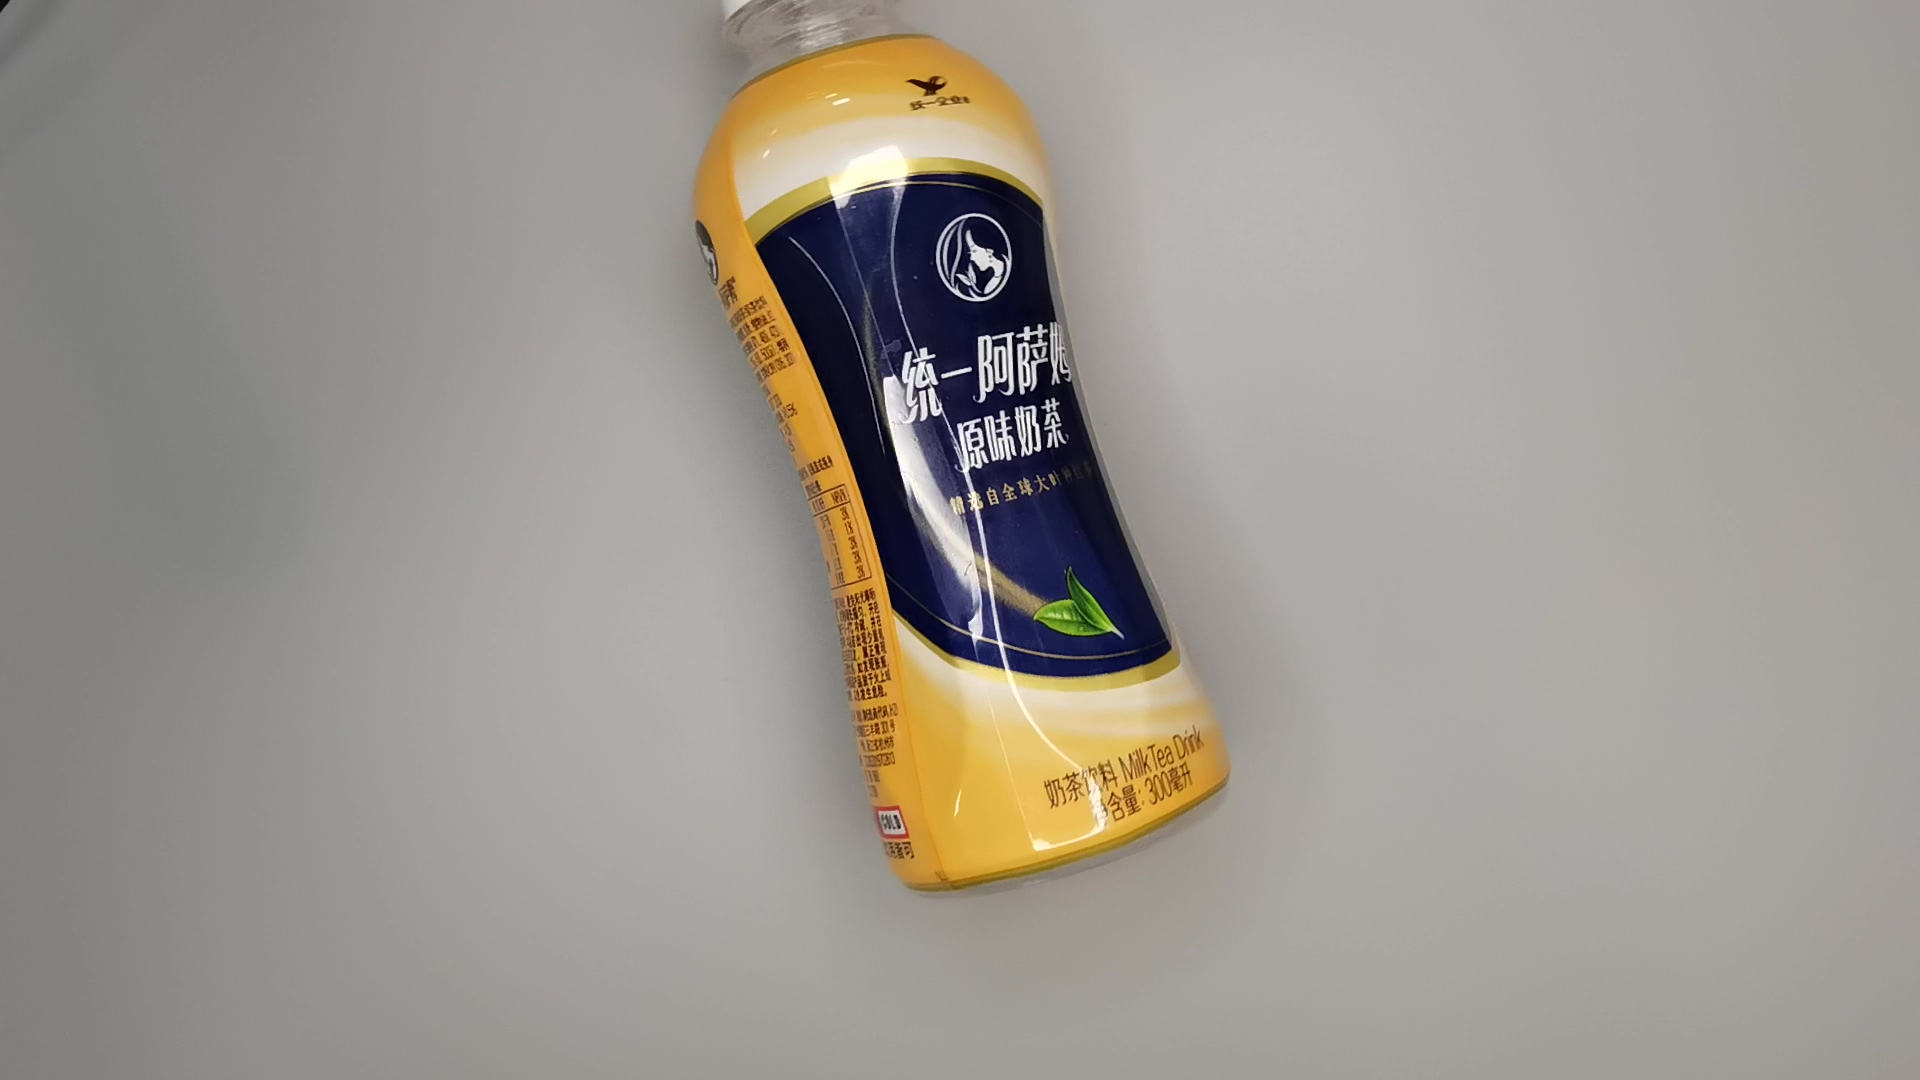bottle: (678, 1, 1244, 898)
